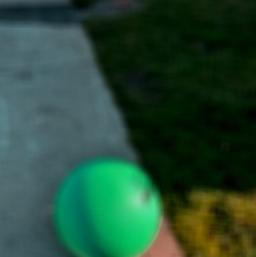algae: (53, 155, 162, 257)
